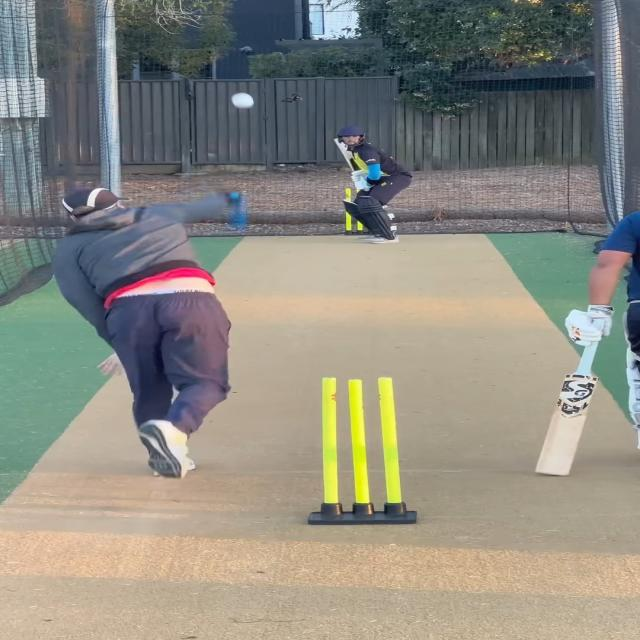ball: (229, 89, 258, 110)
stump: (311, 376, 421, 524)
